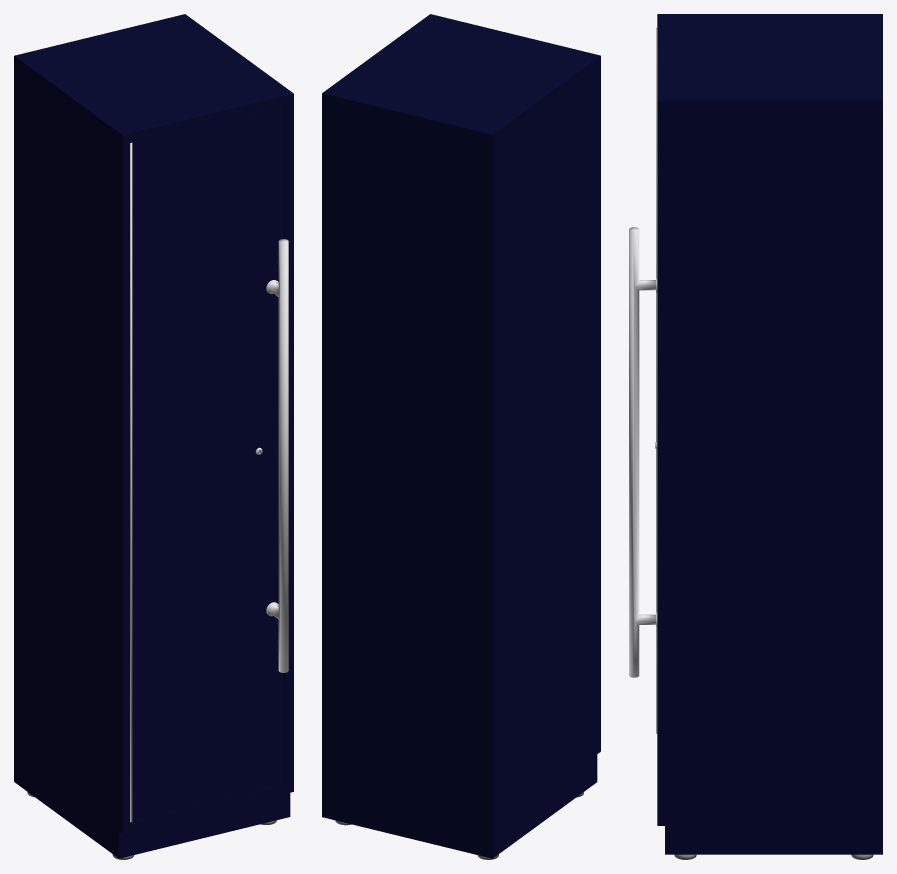
File: rightLockerLux.glb
The picture shows the model from 3 angles, left to right: view 1: azimuth 30°, elevation 25°; view 2: azimuth 150°, elevation 25°; view 3: azimuth 270°, elevation 25°; orthographic projection. The views are drawn at different scales.
Parts seen in each view (by area): view 1: baseShell, doors, handles, hinge; view 2: baseShell; view 3: baseShell, handles, hinge.
Boxes of the visible parts, x1,y1,x2,y2 form: baseShell: [14, 14, 293, 858]; doors: [132, 105, 284, 821]; handles: [266, 239, 288, 672]; hinge: [130, 105, 284, 822]; baseShell: [322, 14, 600, 858]; baseShell: [657, 14, 882, 854]; handles: [629, 227, 657, 677]; hinge: [656, 28, 657, 733].
Size of the model in its own units: 0.508 by 2.08 by 0.6287.
